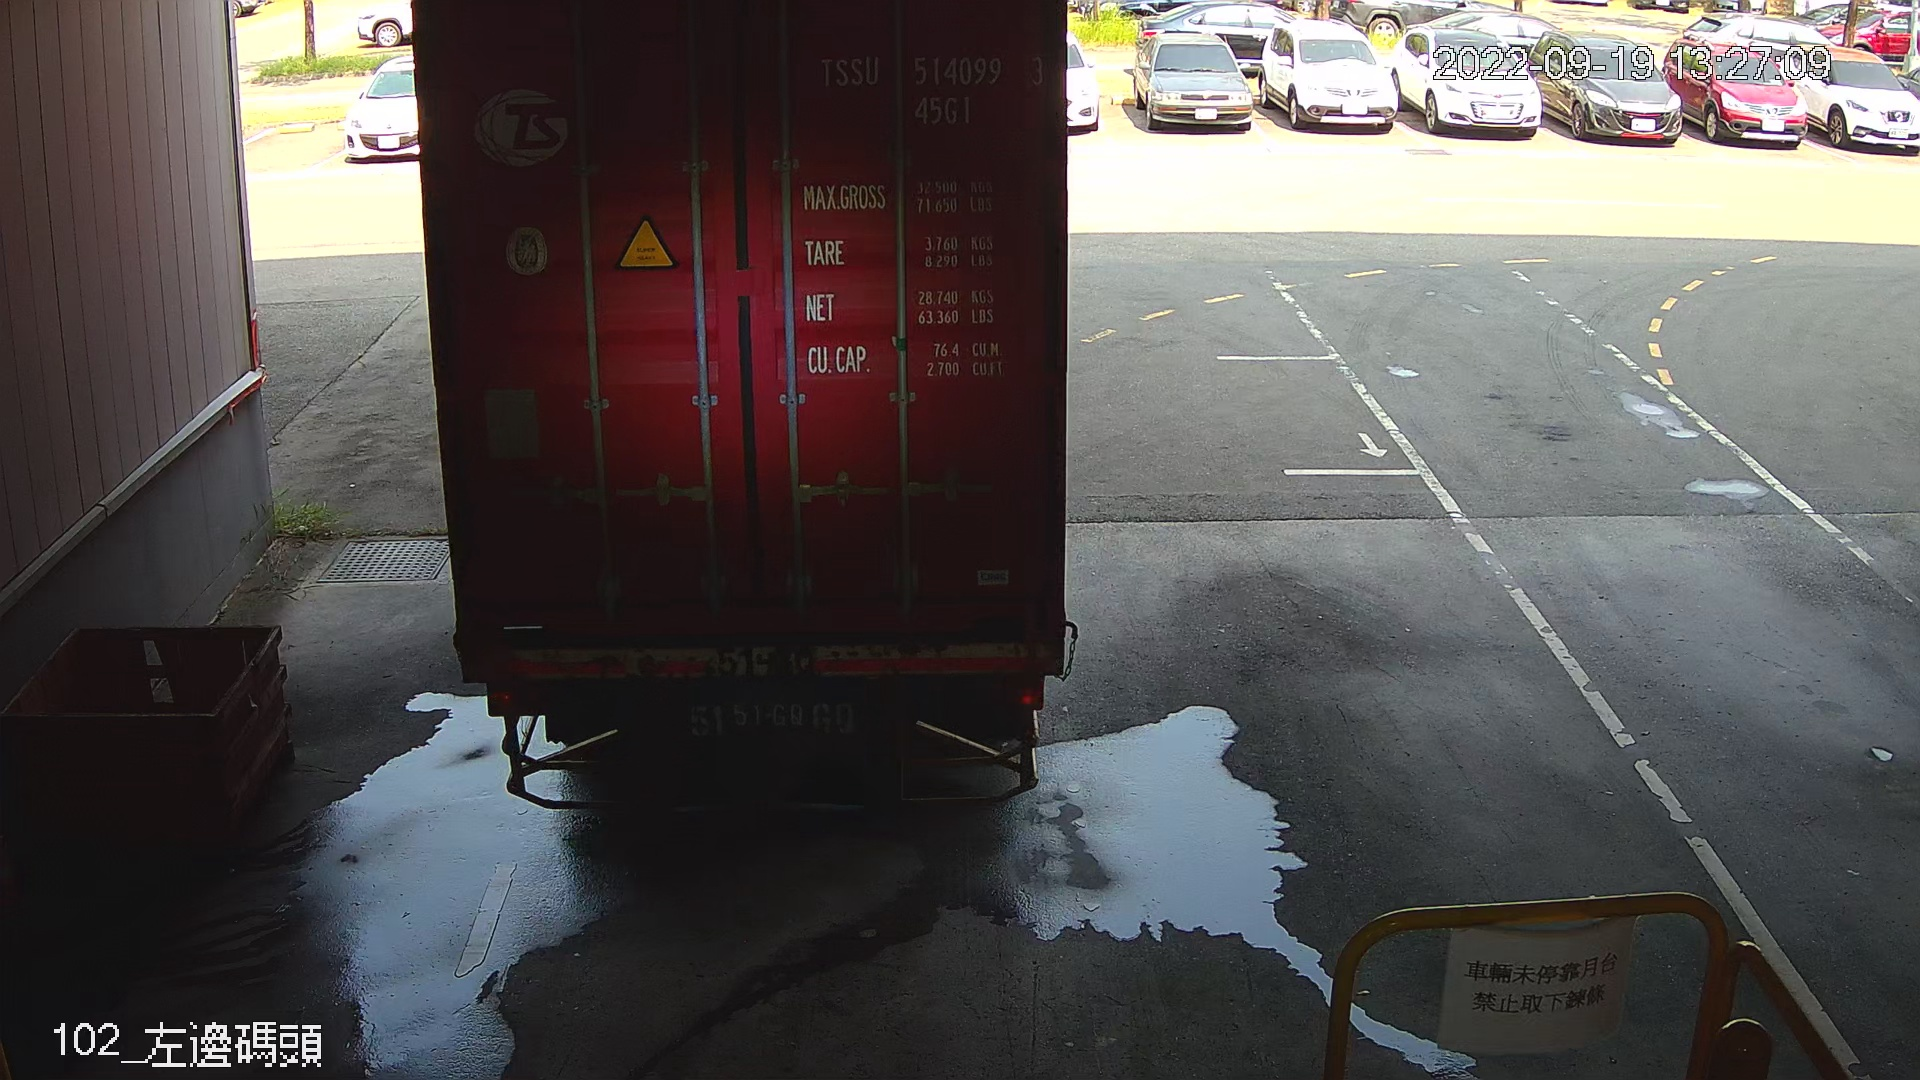container: (804, 45, 1054, 133)
